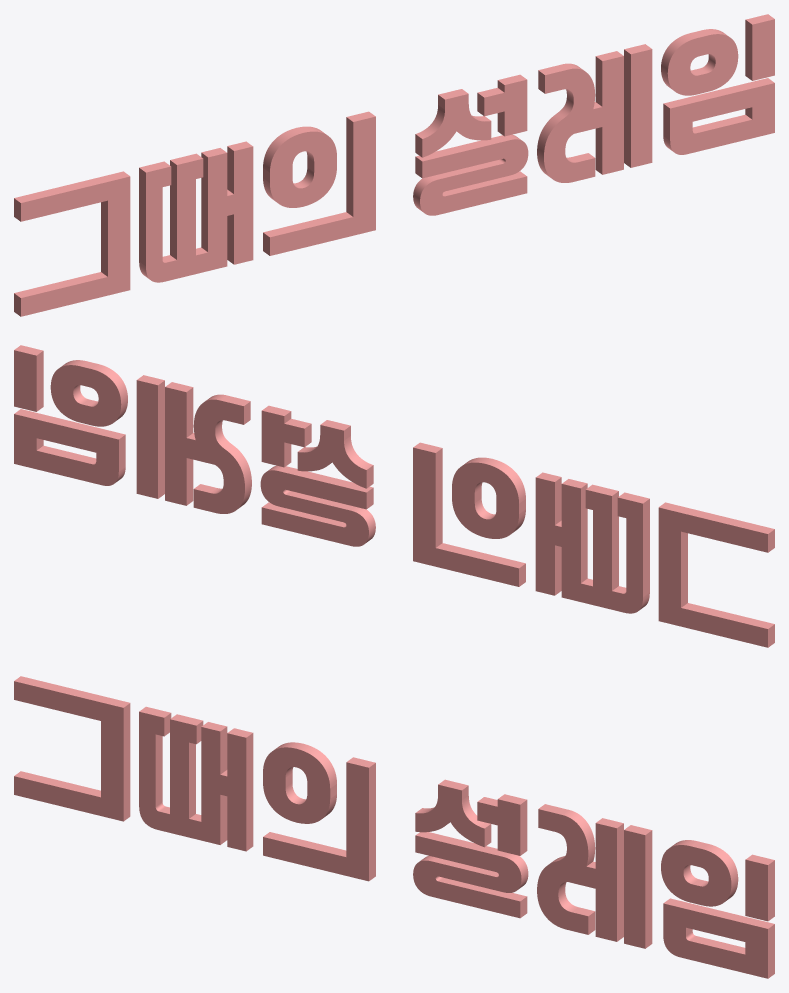
File: asset.gltf
The picture shows the model from 3 angles, top to bottom: view 1: azimuth 30°, elevation 25°; view 2: azimuth 150°, elevation 25°; view 3: azimuth 330°, elevation 25°; orthographic projection.
Parts seen in each view (by area): view 1: 때, 설, 레, 임, 의, 그; view 2: 때, 설, 레, 임, 의, 그; view 3: 때, 레, 설, 임, 의, 그.
Part boxes in pixels (left/top/right/bottom): 때: left=139, top=141, right=253, bottom=282; 설: left=413, top=74, right=528, bottom=215; 레: left=537, top=44, right=652, bottom=182; 임: left=661, top=14, right=774, bottom=154; 의: left=263, top=111, right=375, bottom=255; 그: left=14, top=171, right=130, bottom=316; 때: left=535, top=472, right=649, bottom=613; 설: left=260, top=405, right=375, bottom=546; 레: left=136, top=375, right=251, bottom=513; 임: left=14, top=345, right=127, bottom=485; 의: left=413, top=442, right=525, bottom=586; 그: left=658, top=502, right=774, bottom=647; 때: left=139, top=706, right=253, bottom=851; 레: left=537, top=804, right=652, bottom=948; 설: left=413, top=779, right=528, bottom=918; 임: left=661, top=840, right=774, bottom=978; 의: left=263, top=742, right=375, bottom=881; 그: left=14, top=676, right=130, bottom=821.
Size of the model in its own units: 5.92 by 0.8639 by 0.0936.
